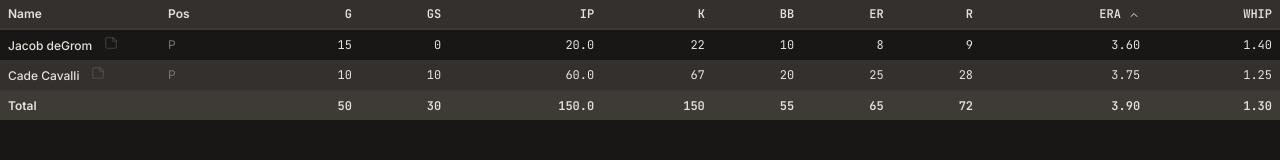
Test: TeamPitchersTable › toggles sort direction when same header is clicked twice
The width and height of the screenshot is (1280, 160).
Expected: the row "Jacob deGrom P 15 0 20.0 22 10 8 9 3.60 1.40" is shown, top-left (0, 29), bottom-right (1279, 60)
Click ERA again → desc: twoPitchers[0] (3.75) first
What coordinates should you click on to do the following:
click the column heading "ERA"
I would click on:
 (1065, 14)
Its box is top-left (981, 0), bottom-right (1148, 29).
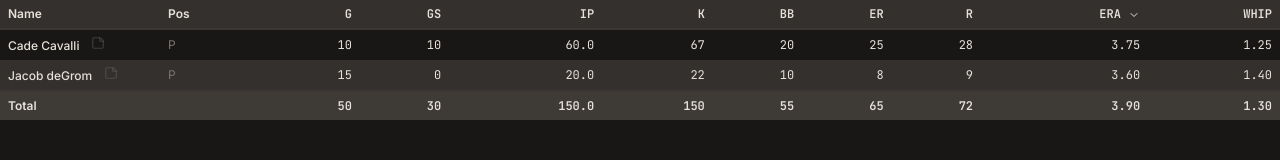
Expected: the row "Cade Cavalli P 10 10 60.0 67 20 25 28 3.75 1.25" is shown, top-left (0, 29), bottom-right (1279, 60)
